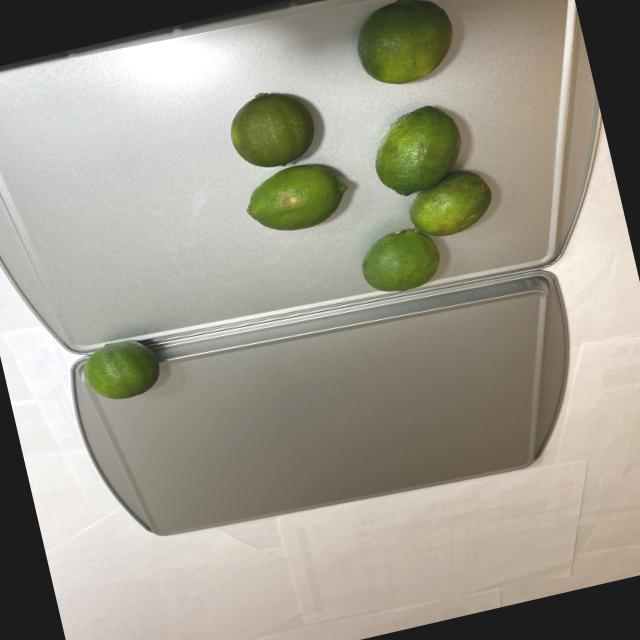lemon: (202, 0, 524, 321), (77, 334, 165, 404)
